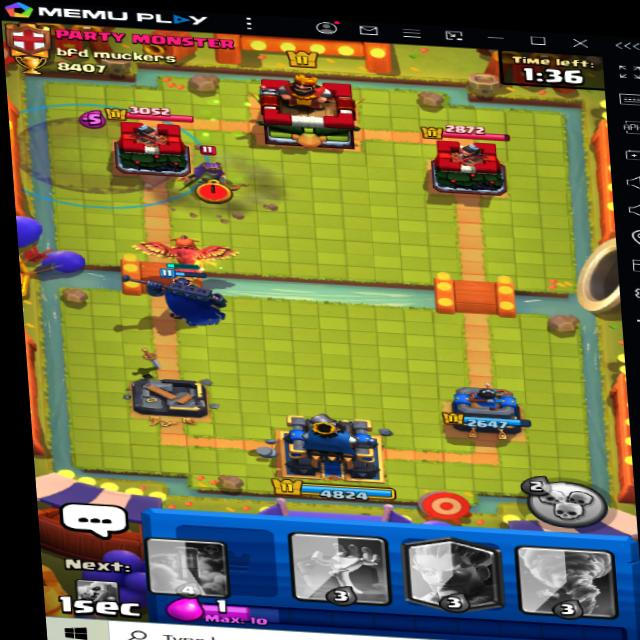archer-queen: (175, 150, 248, 216)
